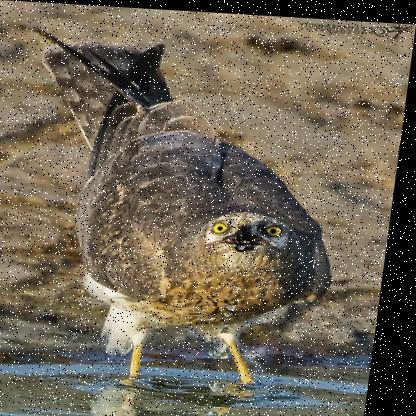Burung: (0, 22, 363, 396)
